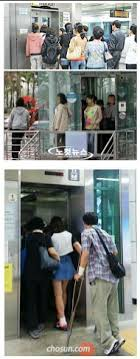crutches: (62, 211, 126, 355)
